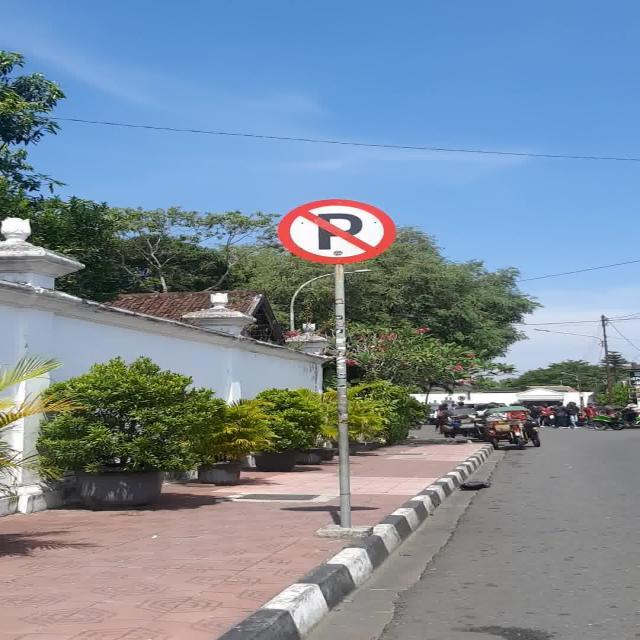Dilarang Parkir: (278, 198, 397, 264)
